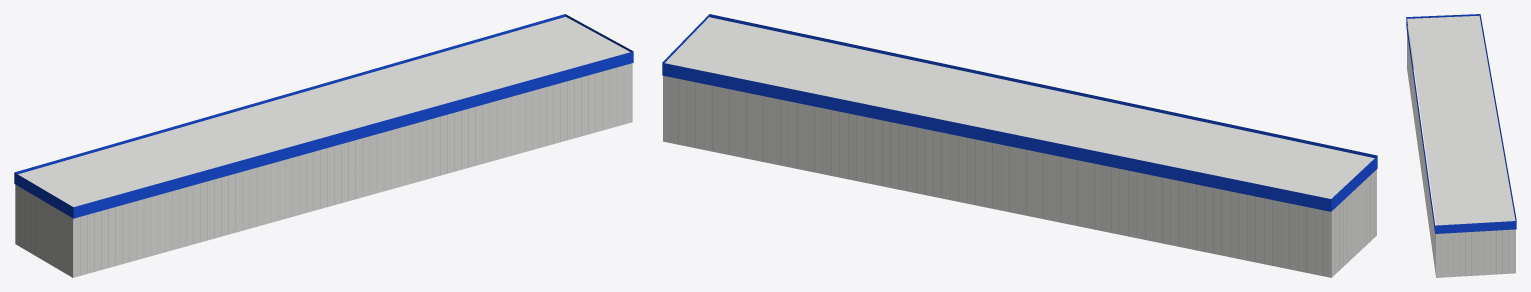
File: annex.glb
3 renders of one model, left to right at view 1: azimuth 30°, elevation 25°; view 2: azimuth 150°, elevation 25°; view 3: azimuth 270°, elevation 25°, orthographic. The views are drawn at different scales.
Visible parts, largest first — view 1: annex walls, annex roof, annex eave band; view 2: annex walls, annex roof, annex eave band; view 3: annex roof, annex walls, annex eave band.
Boxes of the visible parts, bbox=[...] form: annex walls: bbox=[15, 63, 632, 277]; annex roof: bbox=[18, 17, 630, 206]; annex eave band: bbox=[14, 14, 633, 218]; annex walls: bbox=[663, 75, 1376, 277]; annex roof: bbox=[665, 17, 1374, 198]; annex eave band: bbox=[662, 14, 1377, 211]; annex roof: bbox=[1407, 15, 1515, 225]; annex walls: bbox=[1407, 25, 1515, 277]; annex eave band: bbox=[1406, 14, 1516, 233].
Size of the model in its own units: 80.38 by 9.3 by 17.76.
Materials: 3 (1 with a texture image).
